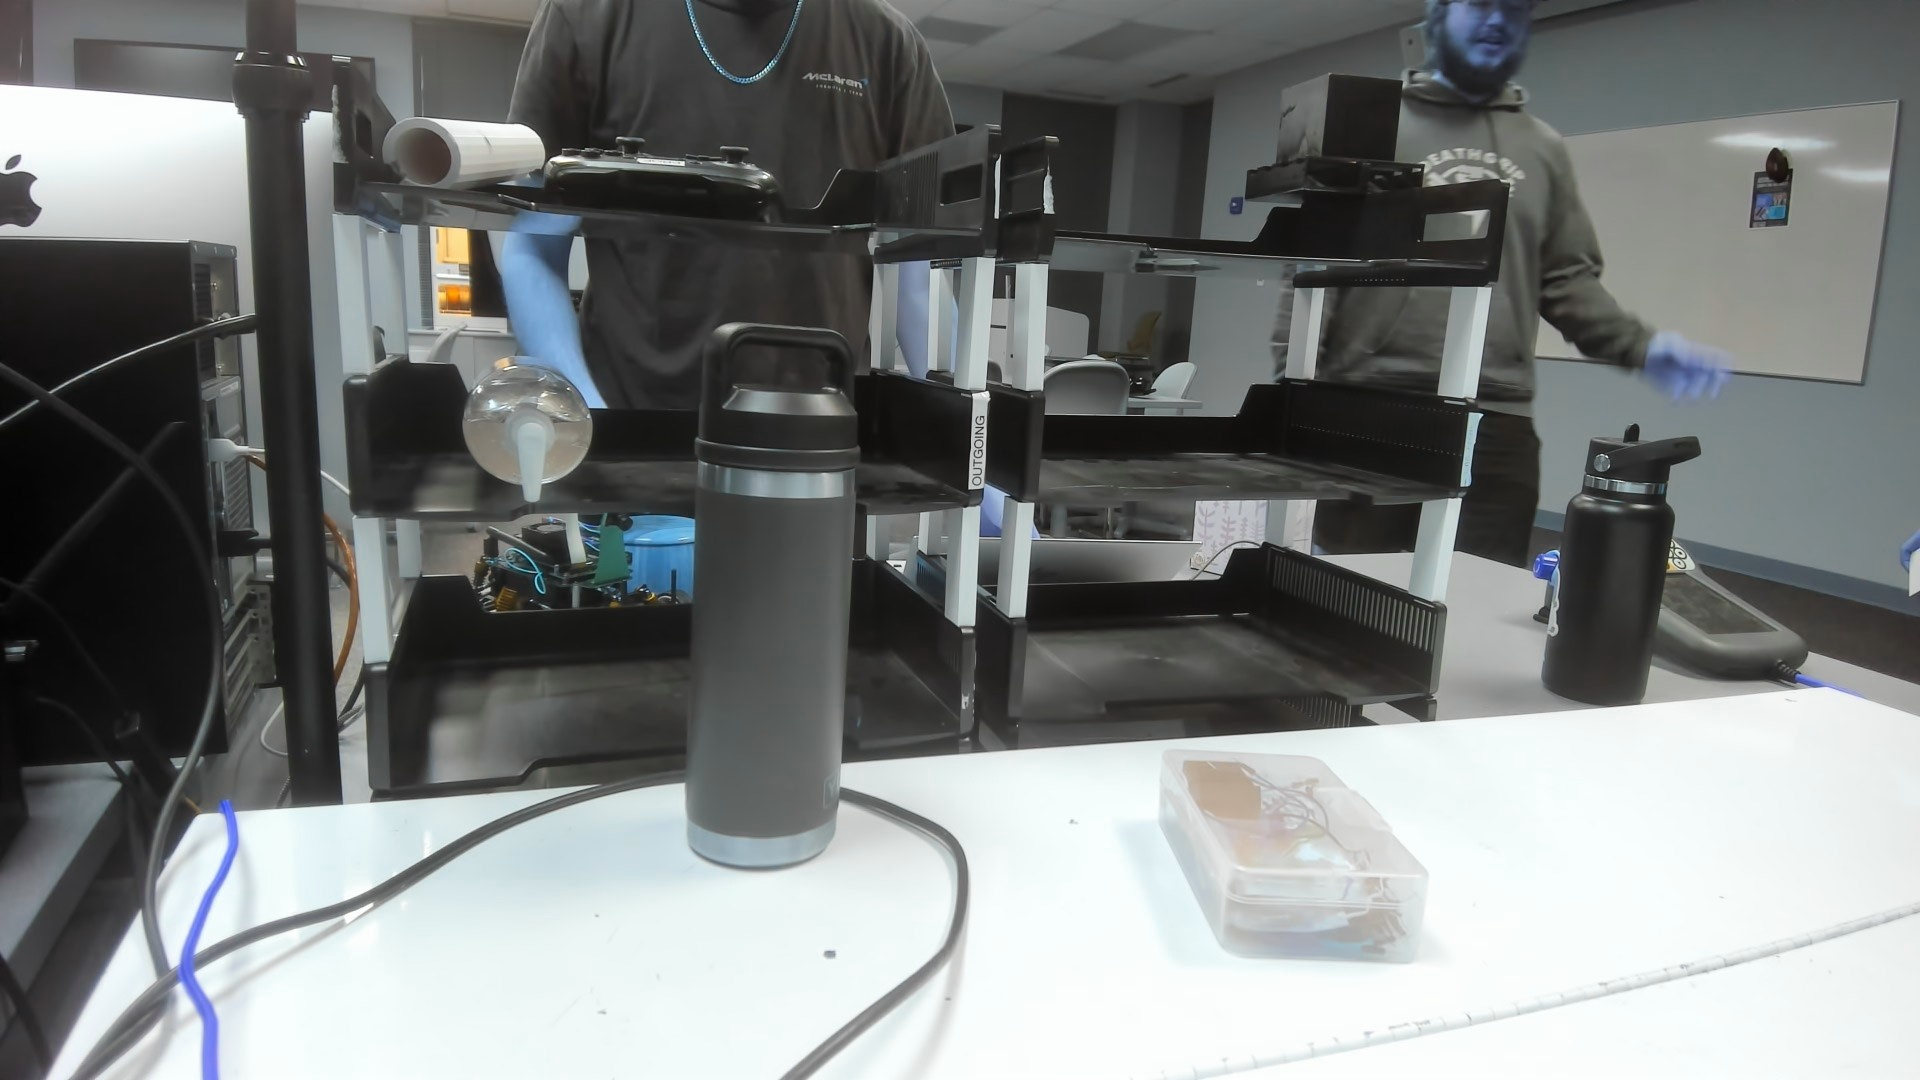black pallet: (1240, 63, 1431, 211)
